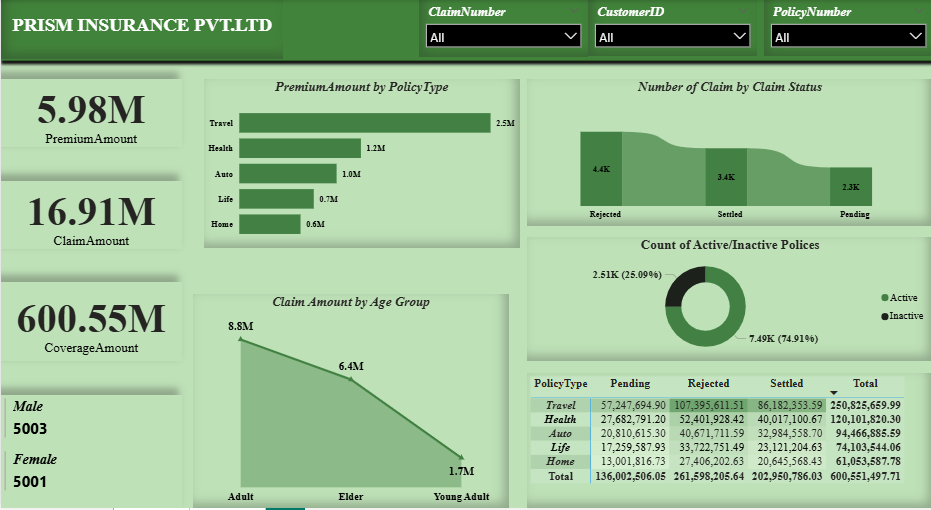

The page's visual inventory and layout, read from the dashboard file:
{"tool":"powerbi","page":{"name":"Page 1","canvas":[1321,720],"ordinal":0},"visuals":[{"type":"slicer","fields":{"Values":["InsuranceData (1).PolicyNumber"]},"box":[1081,0,240,80],"z":0},{"type":"slicer","fields":{"Values":["InsuranceData (1).CustomerID"]},"box":[832,0,240,80],"z":1000},{"type":"slicer","fields":{"Values":["InsuranceData (1).ClaimNumber"]},"box":[592,0,240,81],"z":2000},{"type":"textbox","box":[0,0,400,83],"z":3000},{"type":"card","fields":{"Values":["Sum(InsuranceData (1).PremiumAmount)"]},"box":[0,112,256,96],"z":4000},{"type":"card","fields":{"Values":["Sum(InsuranceData (1).CoverageAmount)"]},"box":[0,400,256,112],"z":5000},{"type":"card","fields":{"Values":["Sum(InsuranceData (1).ClaimAmount)"]},"box":[0,256,256,96],"z":6000},{"type":"multiRowCard","fields":{"Values":["CountNonNull(InsuranceData (1).Gender)","InsuranceData (1).Gender"]},"box":[0,560,256,160],"z":7000},{"type":"ribbonChart","title":"Number of Claim by Claim Status ","fields":{"Category":["InsuranceData (1).ClaimStatus"],"Y":["CountNonNull(InsuranceData (1).ClaimStatus)"]},"box":[745,112,576,208],"z":8000},{"type":"barChart","title":"PremiumAmount by PolicyType","fields":{"Category":["InsuranceData (1).PolicyType"],"Y":["Sum(InsuranceData (1).PremiumAmount)"]},"box":[288,112,448,240],"z":9000},{"type":"lineChart","title":" Claim Amount by Age Group","fields":{"Y":["Sum(InsuranceData (1).ClaimAmount)"],"Category":["InsuranceData (1).Age Group"]},"box":[272,416,448,304],"z":10000},{"type":"donutChart","title":"Count of Active/Inactive Polices","fields":{"Category":["InsuranceData (1).Active/Inactive"],"Y":["CountNonNull(InsuranceData (1).Active/Inactive)"]},"box":[745,336,576,176],"z":11000},{"type":"pivotTable","fields":{"Rows":["InsuranceData (1).PolicyType"],"Values":["Sum(InsuranceData (1).CoverageAmount)"],"Columns":["InsuranceData (1).ClaimStatus"]},"box":[745,528,576,192],"z":12000}]}

Visuals, with their boxes in screenshot pixels (x1, y1, x2, y2), scaled from the page's 1321x720 canvas onto the 931x510 screenshot:
slicer - InsuranceData (1).PolicyNumber: {"x1": 762, "y1": 0, "x2": 930, "y2": 57}
slicer - InsuranceData (1).CustomerID: {"x1": 586, "y1": 0, "x2": 756, "y2": 57}
slicer - InsuranceData (1).ClaimNumber: {"x1": 417, "y1": 0, "x2": 586, "y2": 57}
textbox: {"x1": 0, "y1": 0, "x2": 282, "y2": 59}
card - Sum(InsuranceData (1).PremiumAmount): {"x1": 0, "y1": 79, "x2": 180, "y2": 147}
card - Sum(InsuranceData (1).CoverageAmount): {"x1": 0, "y1": 283, "x2": 180, "y2": 363}
card - Sum(InsuranceData (1).ClaimAmount): {"x1": 0, "y1": 181, "x2": 180, "y2": 249}
multiRowCard - CountNonNull(InsuranceData (1).Gender) x InsuranceData (1).Gender: {"x1": 0, "y1": 397, "x2": 180, "y2": 509}
"Number of Claim by Claim Status " ribbonChart: {"x1": 525, "y1": 79, "x2": 930, "y2": 227}
"PremiumAmount by PolicyType" barChart: {"x1": 203, "y1": 79, "x2": 519, "y2": 249}
" Claim Amount by Age Group" lineChart: {"x1": 192, "y1": 295, "x2": 507, "y2": 509}
"Count of Active/Inactive Polices" donutChart: {"x1": 525, "y1": 238, "x2": 930, "y2": 363}
pivotTable - InsuranceData (1).PolicyType x Sum(InsuranceData (1).CoverageAmount): {"x1": 525, "y1": 374, "x2": 930, "y2": 509}
